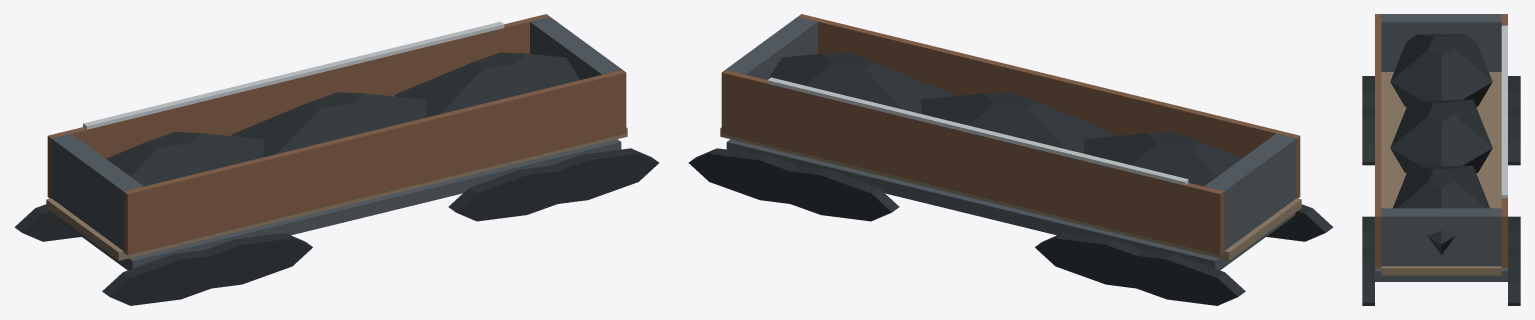
Rendered from coal_wagon.glb.
The picture shows the model from 3 angles, left to right: view 1: azimuth 30°, elevation 25°; view 2: azimuth 150°, elevation 25°; view 3: azimuth 270°, elevation 25°; orthographic projection. The views are drawn at different scales.
Parts seen in each view (by area): view 1: coal_wagon; view 2: coal_wagon; view 3: coal_wagon.
Boxes of the visible parts, x1,y1,x2,y2 form: coal_wagon: (14,14,659,305); coal_wagon: (688,14,1333,305); coal_wagon: (1362,14,1520,305).
Bounding box in the file's own units: 10 × 2 × 3.
